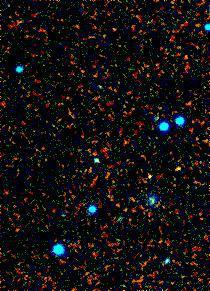star: (163, 152, 193, 182)
